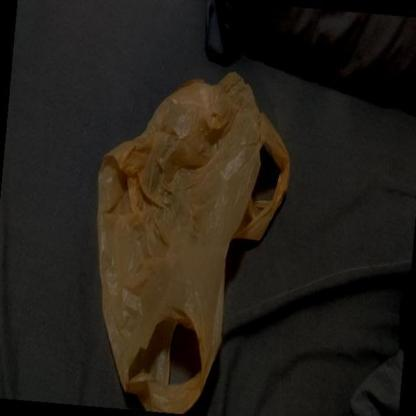Plastic Bag: (96, 67, 294, 415)
